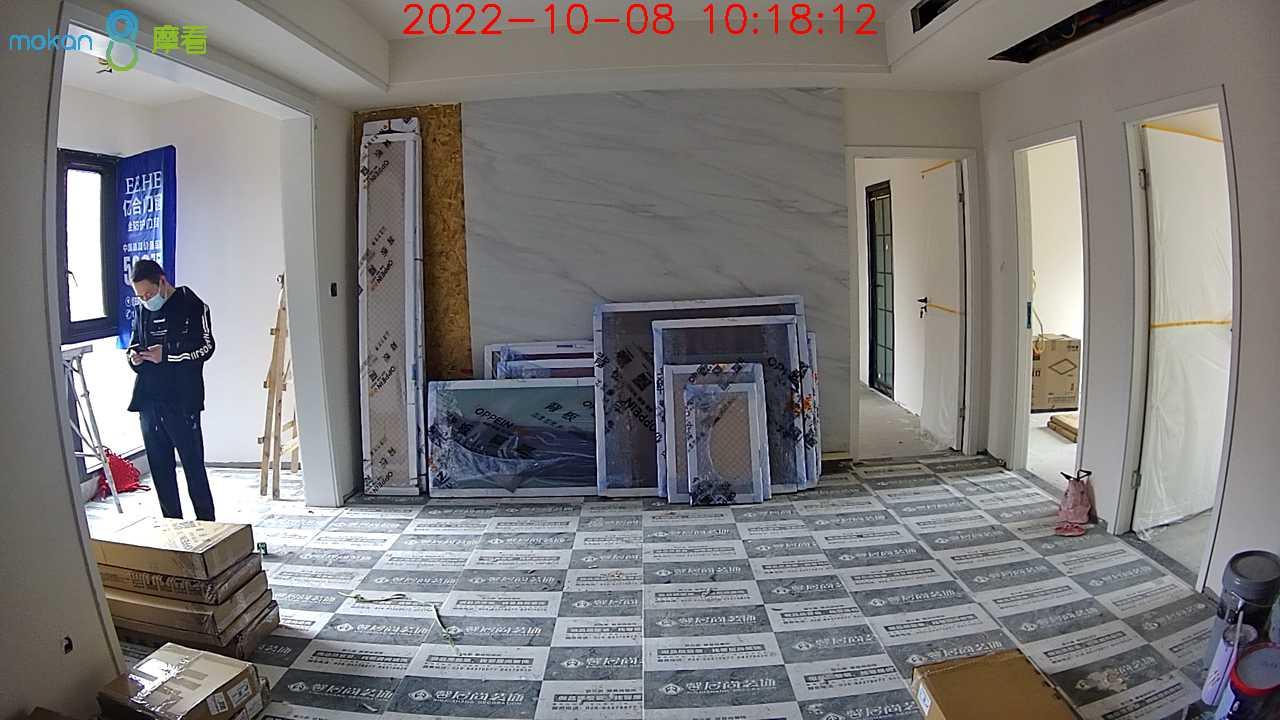people: (126, 259, 219, 521)
window: (55, 156, 162, 470)
